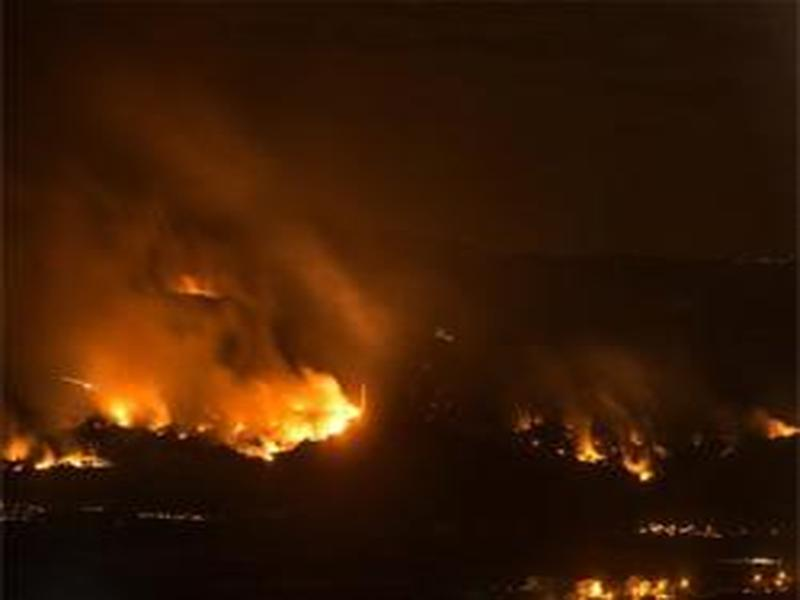FIRE: (68, 297, 615, 528)
